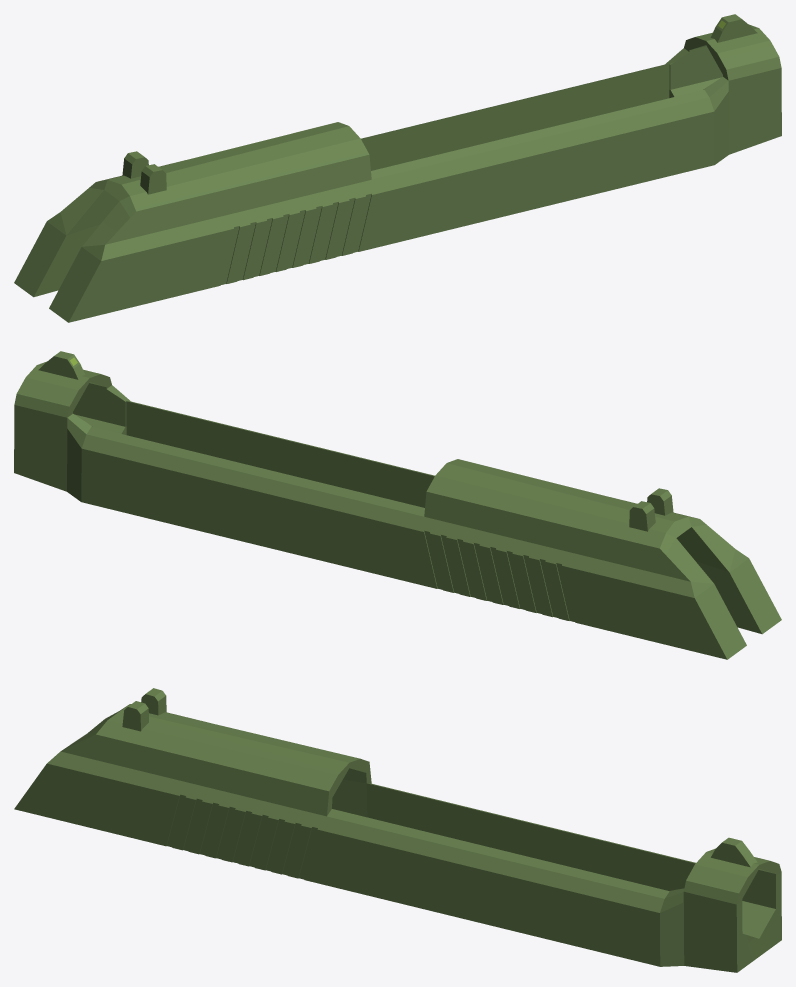
File: Pistol1_02_2.fbx
The picture shows the model from 3 angles, top to bottom: view 1: azimuth 30°, elevation 25°; view 2: azimuth 150°, elevation 25°; view 3: azimuth 330°, elevation 25°; orthographic projection.
Parts seen in each view (by area): view 1: Pistol1_02_2; view 2: Pistol1_02_2; view 3: Pistol1_02_2.
Part boxes in pixels (x1,y1,x2,y2): Pistol1_02_2: [14, 14, 781, 322]; Pistol1_02_2: [14, 351, 781, 659]; Pistol1_02_2: [14, 688, 781, 972].
Size of the model in its own units: 0.2348 by 0.0363 by 0.0308.
